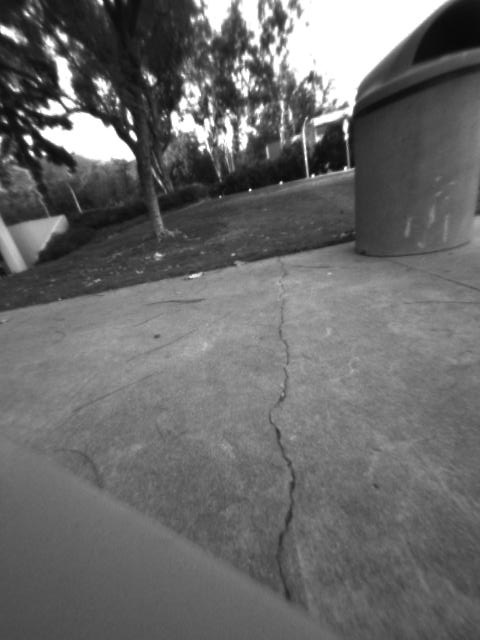trashcan: (358, 1, 480, 265)
